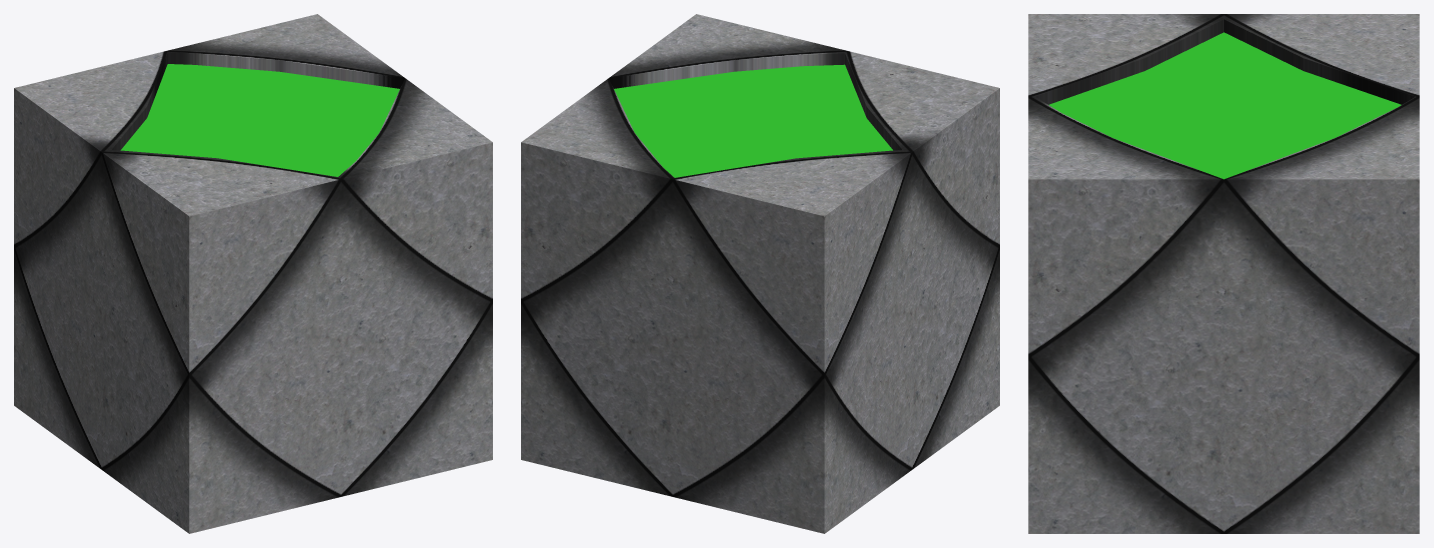
File: Wall.fbx
The picture shows the model from 3 angles, left to right: view 1: azimuth 30°, elevation 25°; view 2: azimuth 150°, elevation 25°; view 3: azimuth 270°, elevation 25°; orthographic projection. The views are drawn at different scales.
Parts seen in each view (by area): view 1: Wall; view 2: Wall; view 3: Wall.
Part boxes in pixels (x1,y1,x2,y2): Wall: [14, 14, 492, 533]; Wall: [521, 14, 999, 533]; Wall: [1028, 14, 1419, 533].
Size of the model in its own units: 100 by 100 by 100.
